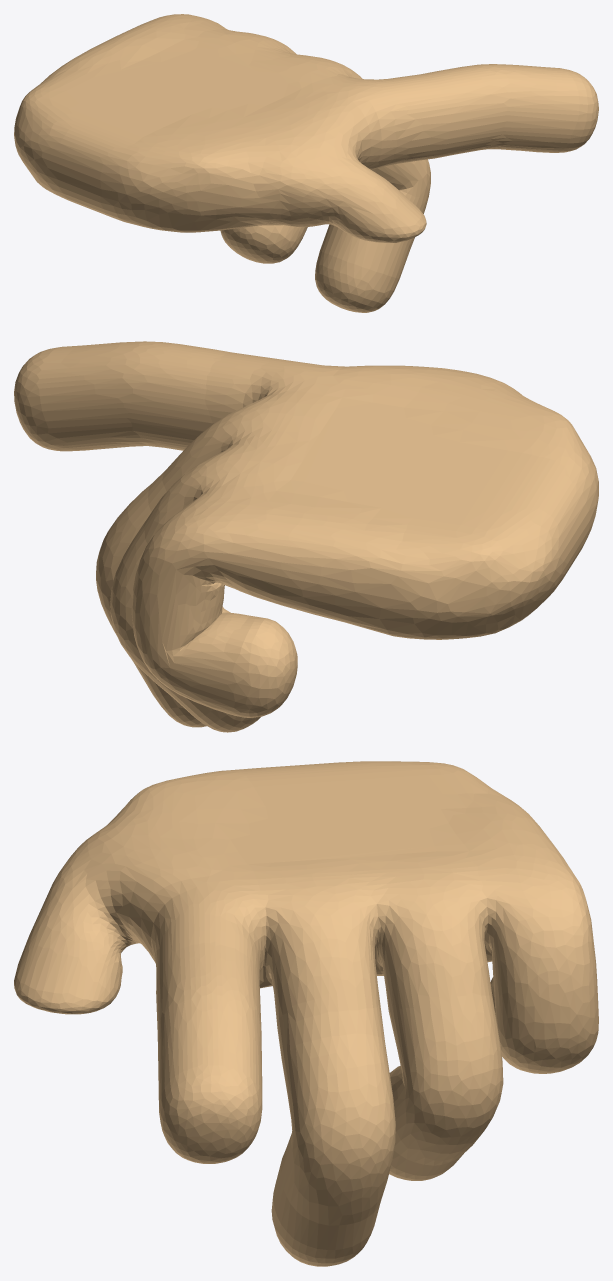
File: interact.glb
3 renders of one model, top to bottom at view 1: azimuth 30°, elevation 25°; view 2: azimuth 150°, elevation 25°; view 3: azimuth 270°, elevation 25°, orthographic. The views are drawn at different scales.
Parts seen in each view (by area): view 1: Cube; view 2: Cube; view 3: Cube.
Part boxes in pixels (box(x1,y1,x2,y2)): Cube: box(14, 14, 598, 312); Cube: box(14, 341, 598, 732); Cube: box(14, 761, 598, 1266).
Bounding box in the file's own units: 3.29 × 1.68 × 2.59.
